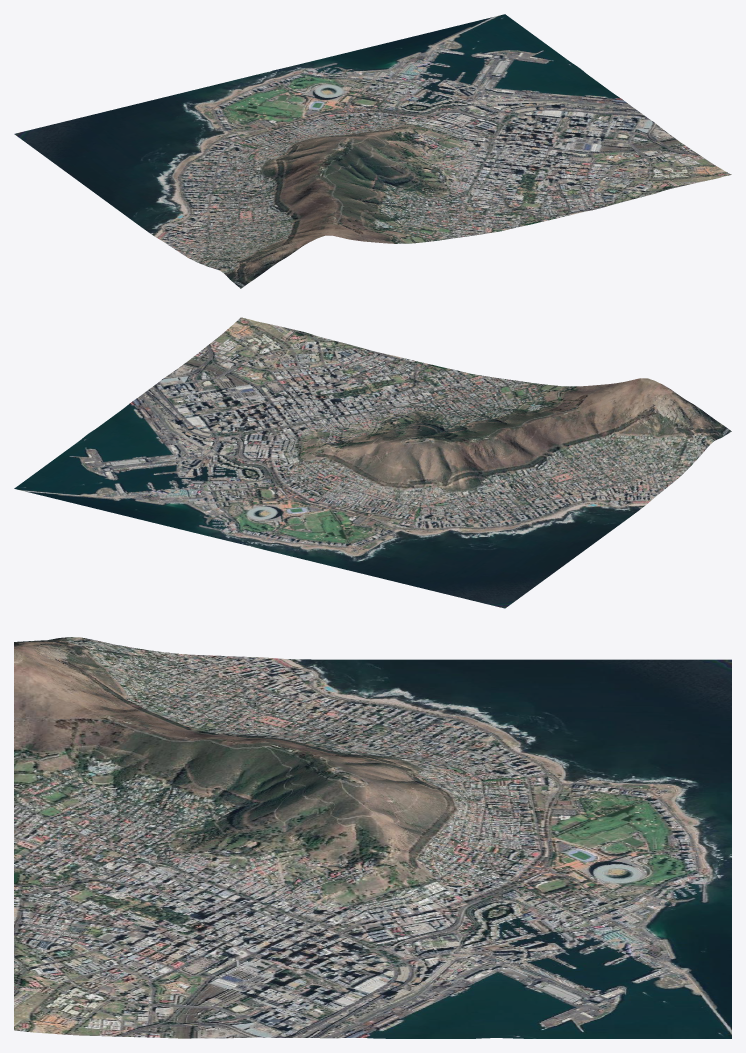
File: cape.glb
3 renders of one model, top to bottom at view 1: azimuth 30°, elevation 25°; view 2: azimuth 150°, elevation 25°; view 3: azimuth 270°, elevation 25°, orthographic. The views are drawn at different scales.
Parts seen in each view (by area): view 1: EXPORT_GOOGLE_SAT_WM; view 2: EXPORT_GOOGLE_SAT_WM; view 3: EXPORT_GOOGLE_SAT_WM.
Part boxes in pixels (left/top/right/bottom): EXPORT_GOOGLE_SAT_WM: left=14, top=14, right=731, bottom=288; EXPORT_GOOGLE_SAT_WM: left=14, top=317, right=731, bottom=608; EXPORT_GOOGLE_SAT_WM: left=14, top=637, right=731, bottom=1038.
Size of the model in its own units: 6115 by 523 by 4892.
Materials: 1 (1 with a texture image).
